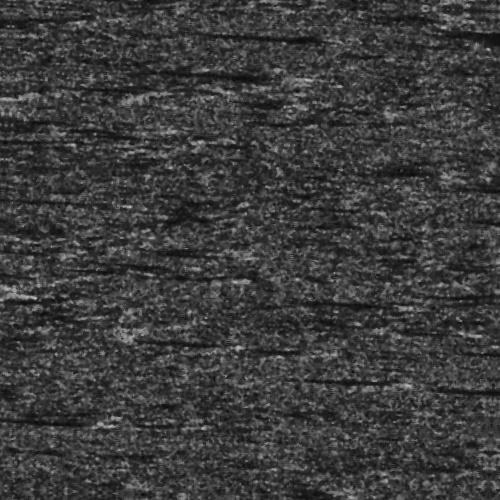object: (168, 271, 303, 284), (269, 71, 322, 78), (296, 31, 359, 36), (296, 344, 337, 351), (90, 428, 121, 433), (421, 160, 452, 165), (225, 250, 256, 253), (404, 372, 425, 375)
shadow: (138, 71, 295, 78), (155, 271, 236, 284), (171, 31, 327, 36), (326, 160, 436, 165), (22, 428, 105, 433), (304, 372, 414, 375), (278, 344, 316, 351), (448, 376, 500, 381), (160, 250, 241, 253), (479, 16, 500, 25)
